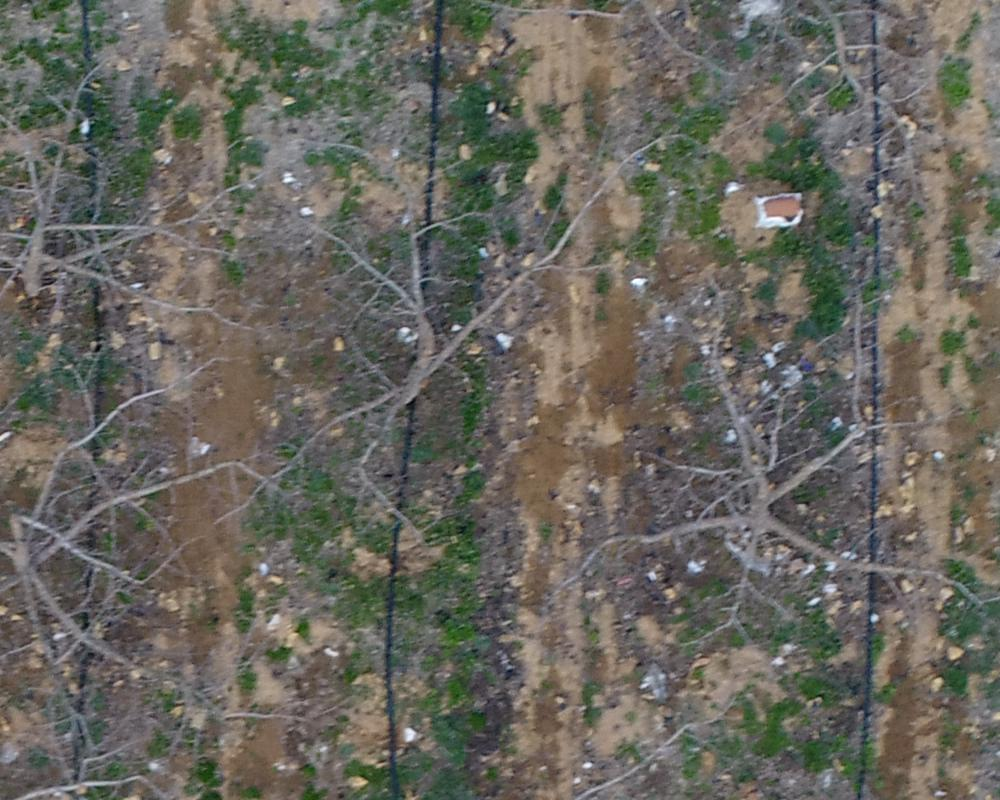apple: (284, 108, 689, 561), (545, 277, 990, 648), (10, 327, 280, 733), (10, 48, 248, 342)
